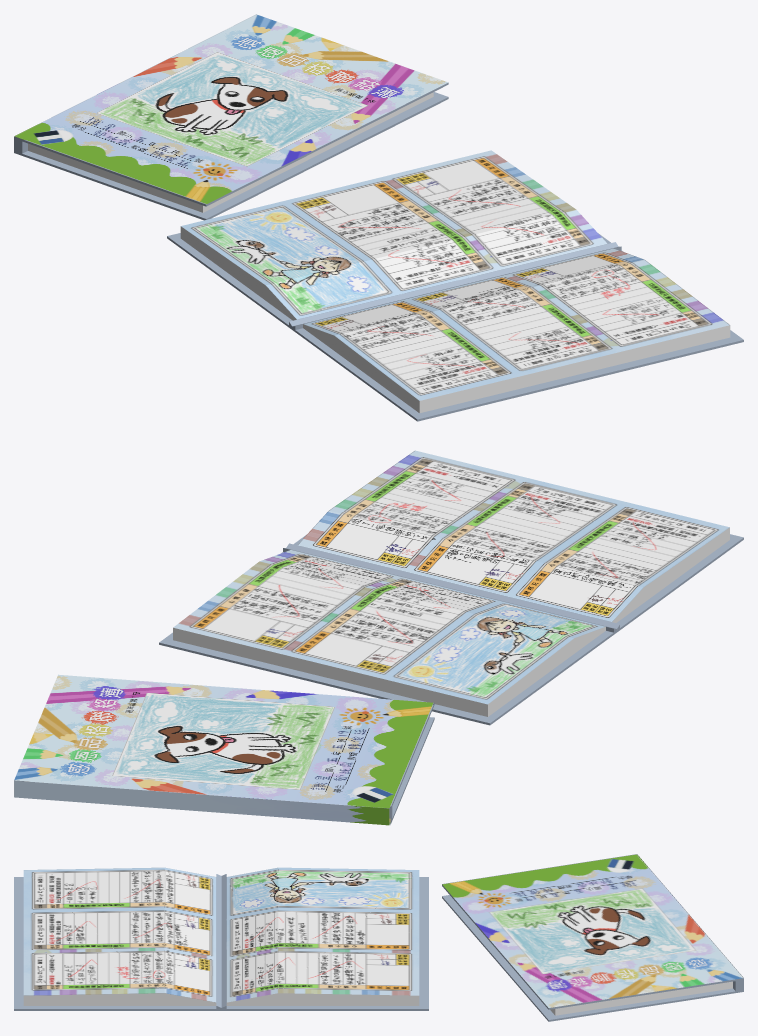
Rendered from ContactBooks.fbx.
3 views of the same model, one above another, from view 1: azimuth 30°, elevation 25°; view 2: azimuth 150°, elevation 25°; view 3: azimuth 270°, elevation 25° (orthographic). The views are drawn at different scales.
Visible parts, largest first — view 1: ContactBook002, ContactBook001; view 2: ContactBook002, ContactBook001; view 3: ContactBook002, ContactBook001.
Part boxes in pixels (<box>): ContactBook002: <box>167,150,743,421</box>; ContactBook001: <box>14,14,448,220</box>; ContactBook002: <box>159,450,743,725</box>; ContactBook001: <box>14,674,434,825</box>; ContactBook002: <box>14,867,428,1010</box>; ContactBook001: <box>442,854,743,1021</box>.
Size of the model in its own units: 11.06 by 0.4848 by 22.15.
